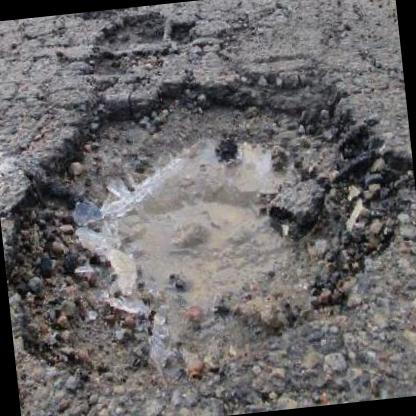pothole: (0, 51, 416, 400), (71, 0, 201, 90)
